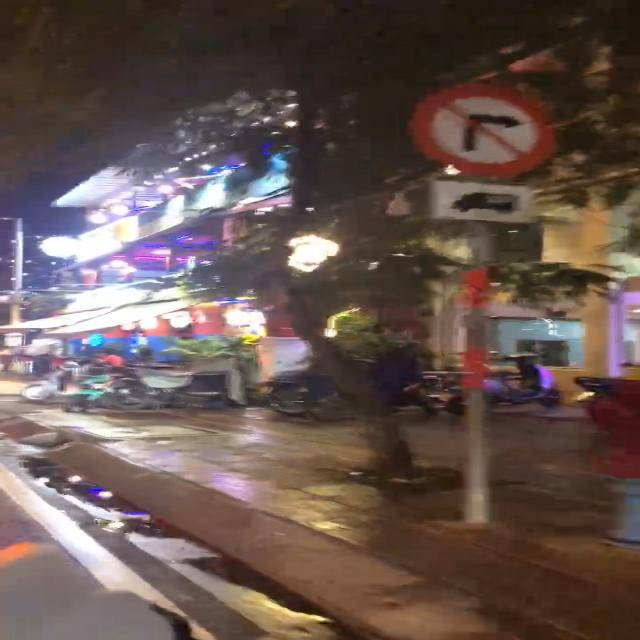Bien bao cam re phai: (395, 78, 558, 174)
